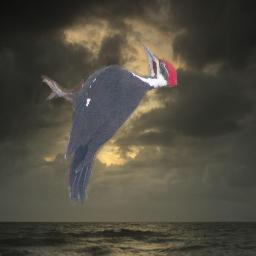Woodpecker: (41, 44, 181, 206)
